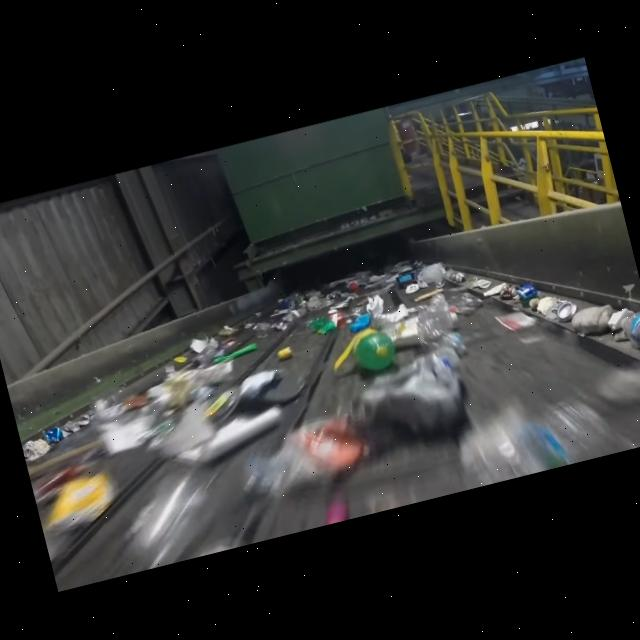trash: (489, 390, 615, 481), (412, 293, 468, 362), (345, 324, 401, 378), (616, 309, 640, 371), (444, 286, 486, 319), (306, 312, 336, 336)
